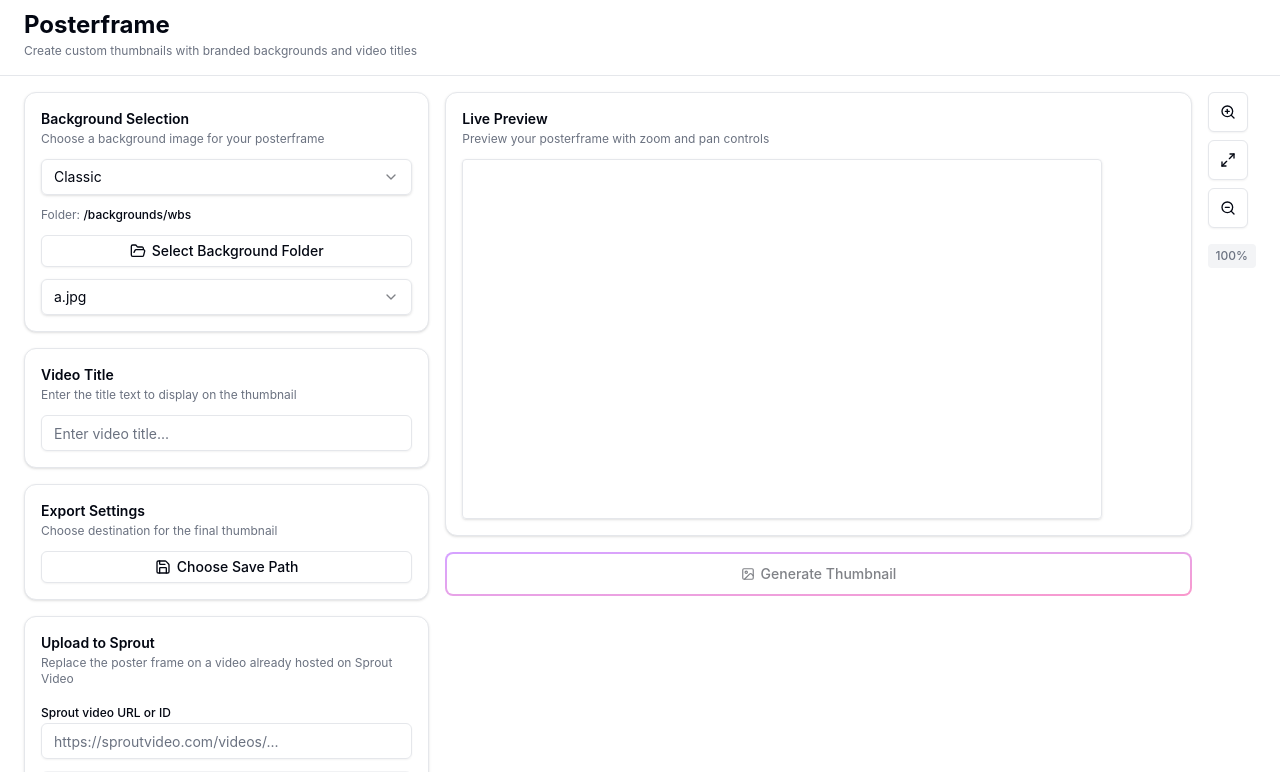
Test: Posterframe page - upload to Sprout (#142) › b1_2_confirms_the_title_of_the_resolved_video
In the field labelled "Sprout video URL or ID": (227,741) [41,723,412,759], type "https://sproutvideo.com/videos/abc123"
(page scrolled)
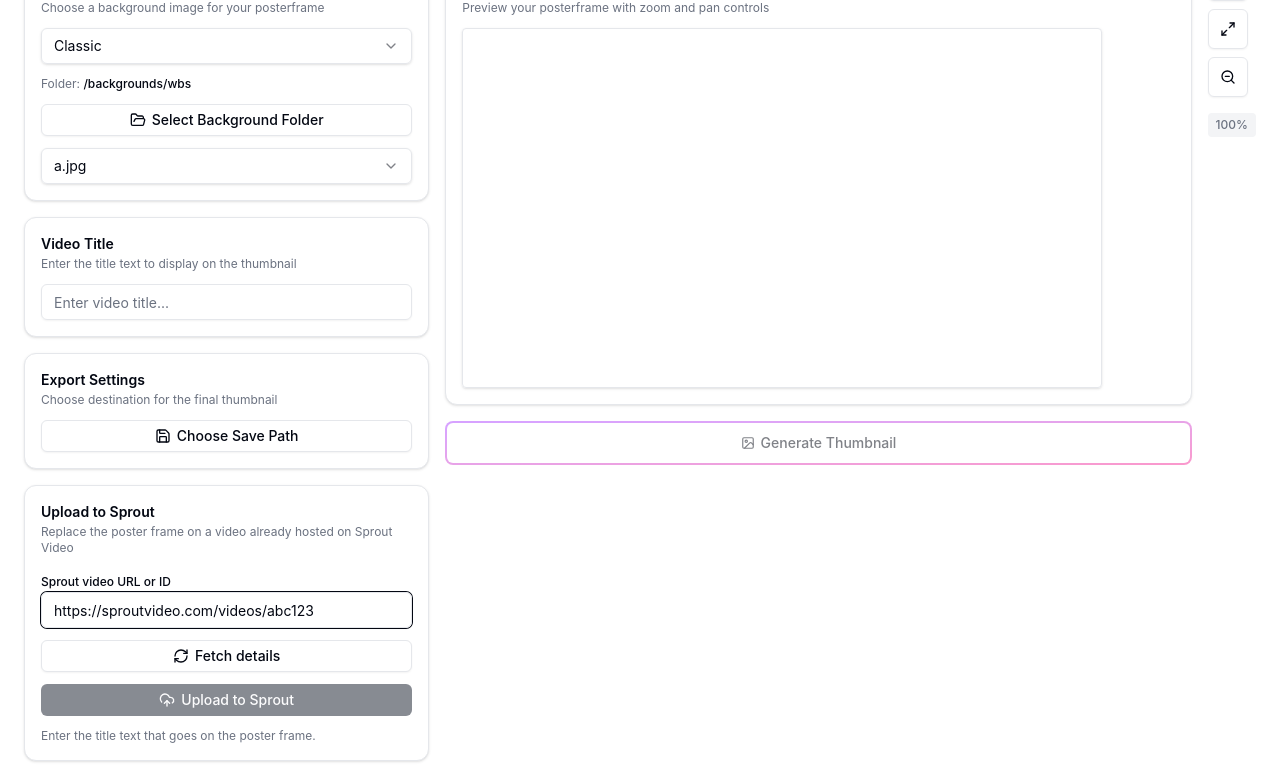
Click the button "Fetch details": (227,656) [41,640,412,672]
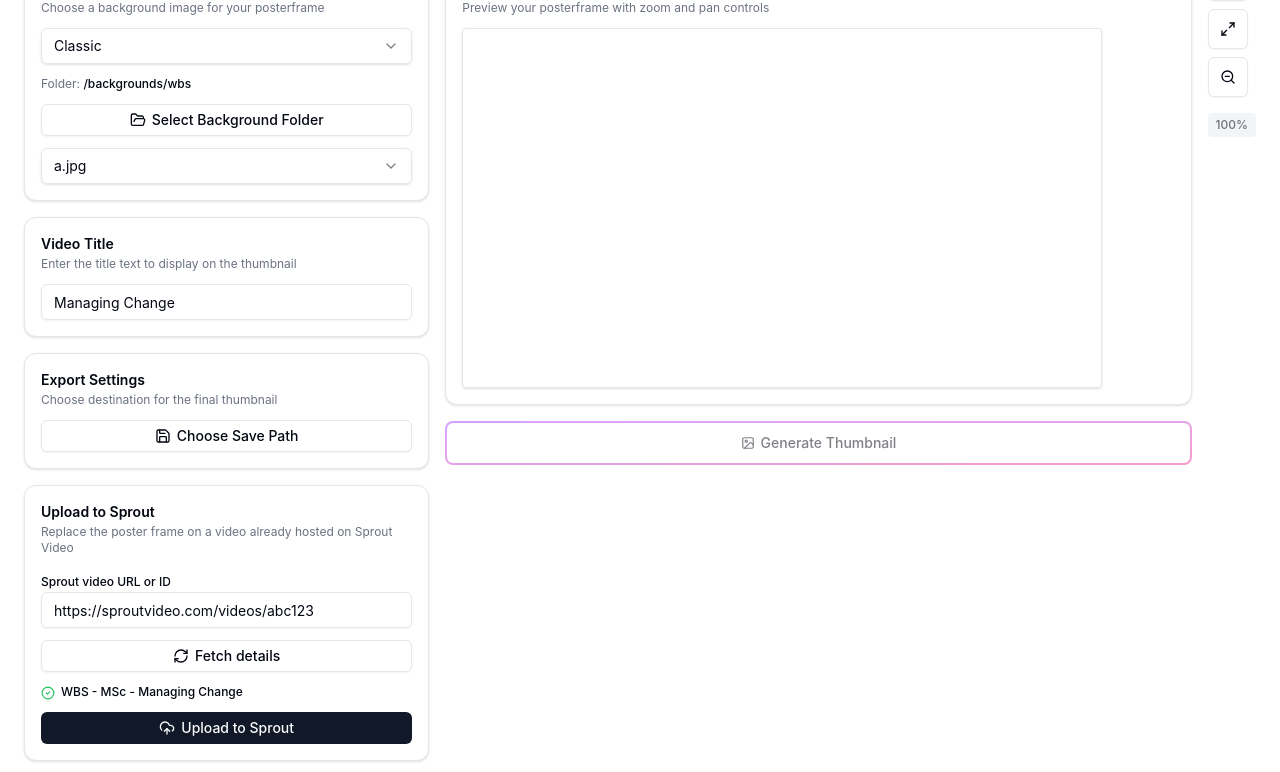
Expected: the text "WBS - MSc - Managing Change" is shown, [61,684,243,700]
